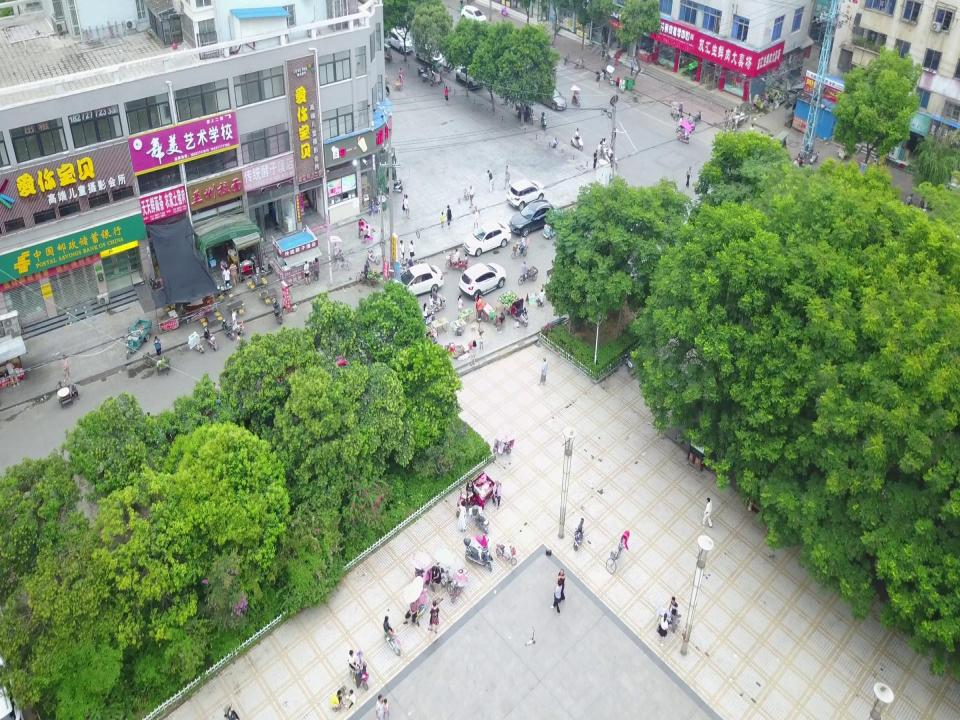car: (509, 199, 559, 237), (461, 221, 513, 257), (458, 262, 508, 296), (392, 262, 444, 294), (506, 179, 546, 209), (534, 83, 568, 111), (414, 40, 444, 67), (384, 26, 412, 54), (456, 64, 482, 89), (461, 4, 488, 28)
